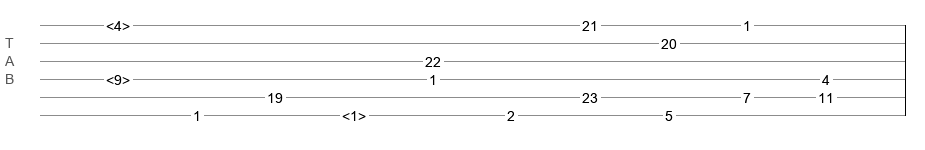1: (193, 108, 201, 118), (429, 72, 437, 82), (743, 18, 751, 28)
11: (818, 90, 834, 100)
19: (267, 90, 283, 100)
2: (507, 108, 515, 118)
20: (661, 36, 677, 46)
21: (582, 18, 598, 28)
22: (425, 54, 441, 64)
23: (582, 90, 598, 100)
4: (822, 72, 830, 82)
5: (665, 108, 673, 118)
7: (743, 90, 751, 100)
harmonic: (106, 18, 130, 28), (106, 72, 130, 82), (342, 108, 366, 118)
